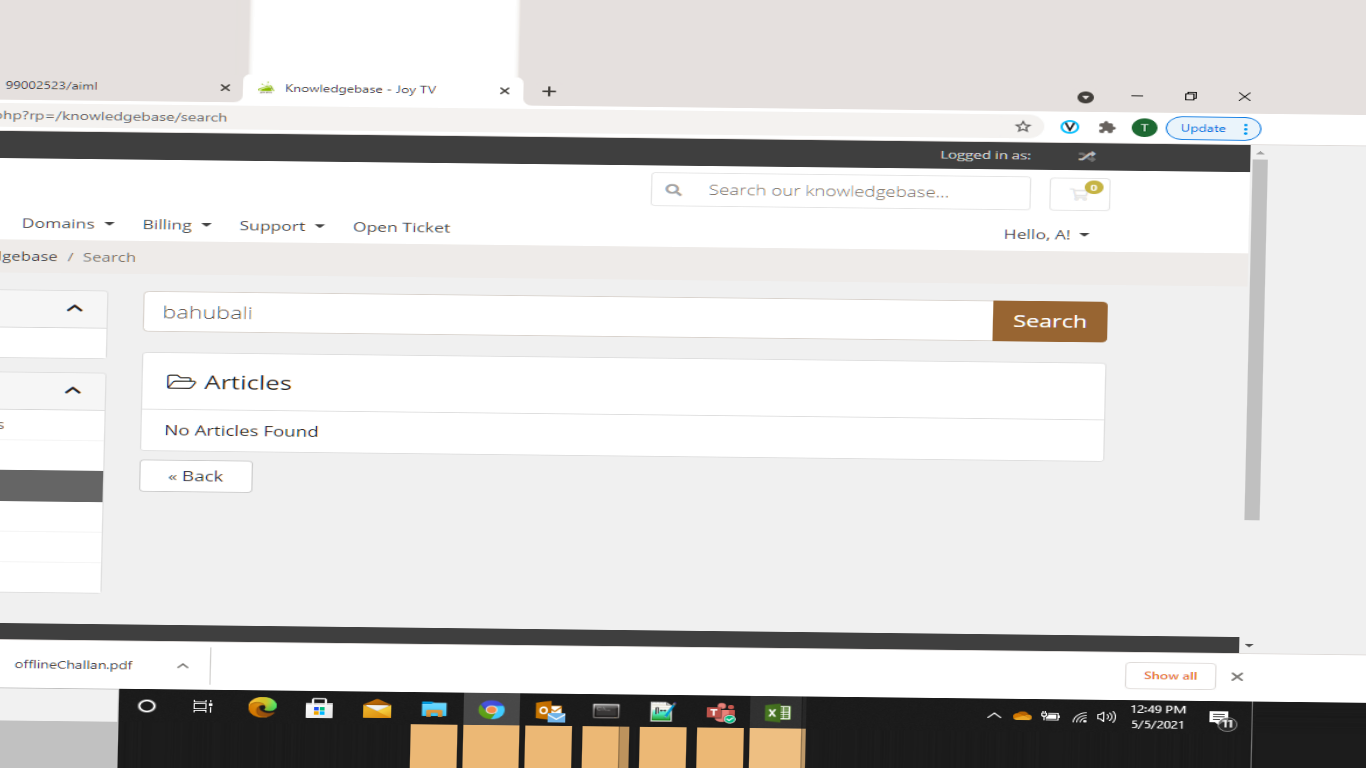backbutton: (141, 452, 260, 500)
noresultsfound: (142, 403, 1103, 471)
profileicon: (994, 211, 1101, 256)
searchicon: (651, 172, 692, 207)
searchtextbox: (146, 294, 998, 342), (651, 170, 1034, 211)
